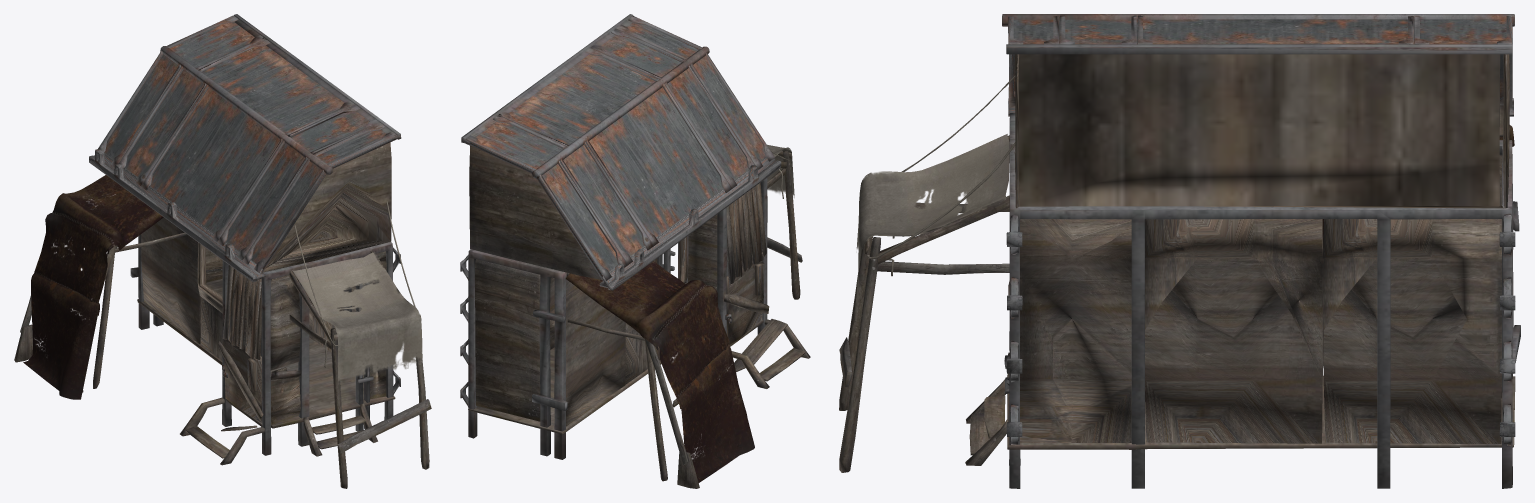
The model's file is barn.glb.
The picture shows the model from 3 angles, left to right: view 1: azimuth 30°, elevation 25°; view 2: azimuth 150°, elevation 25°; view 3: azimuth 270°, elevation 25°; orthographic projection. The views are drawn at different scales.
Visible parts, largest first — view 1: Plane.005; view 2: Plane.005; view 3: Plane.005.
Boxes of the visible parts, bbox=[...] form: Plane.005: bbox=[14, 14, 431, 488]; Plane.005: bbox=[460, 14, 810, 488]; Plane.005: bbox=[839, 14, 1520, 488].
Bounding box in the file's own units: 3.87 × 4.64 × 6.41.
Materials: 6 (6 with a texture image).
